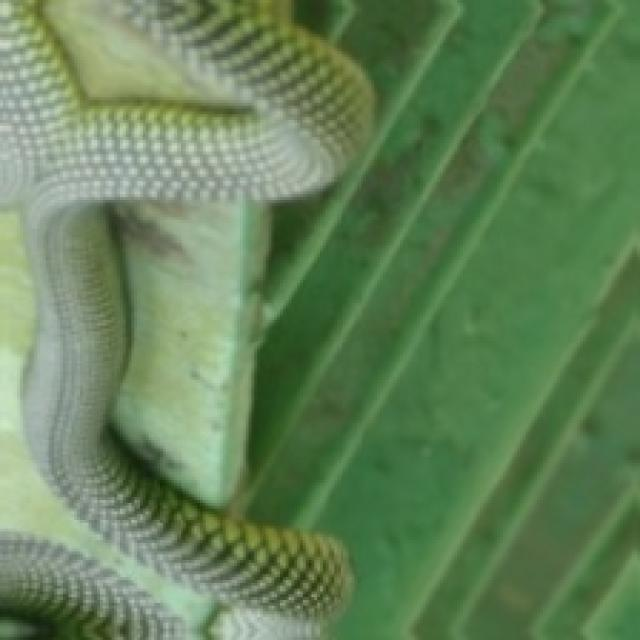paradise tree snake: (0, 0, 369, 637)
